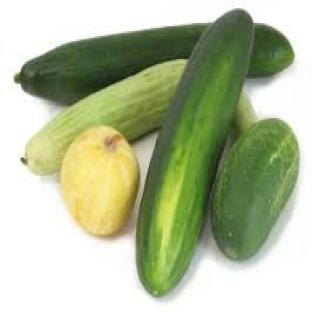Cucumber: (137, 10, 253, 295), (23, 61, 186, 175), (16, 25, 206, 103), (212, 104, 299, 261)
